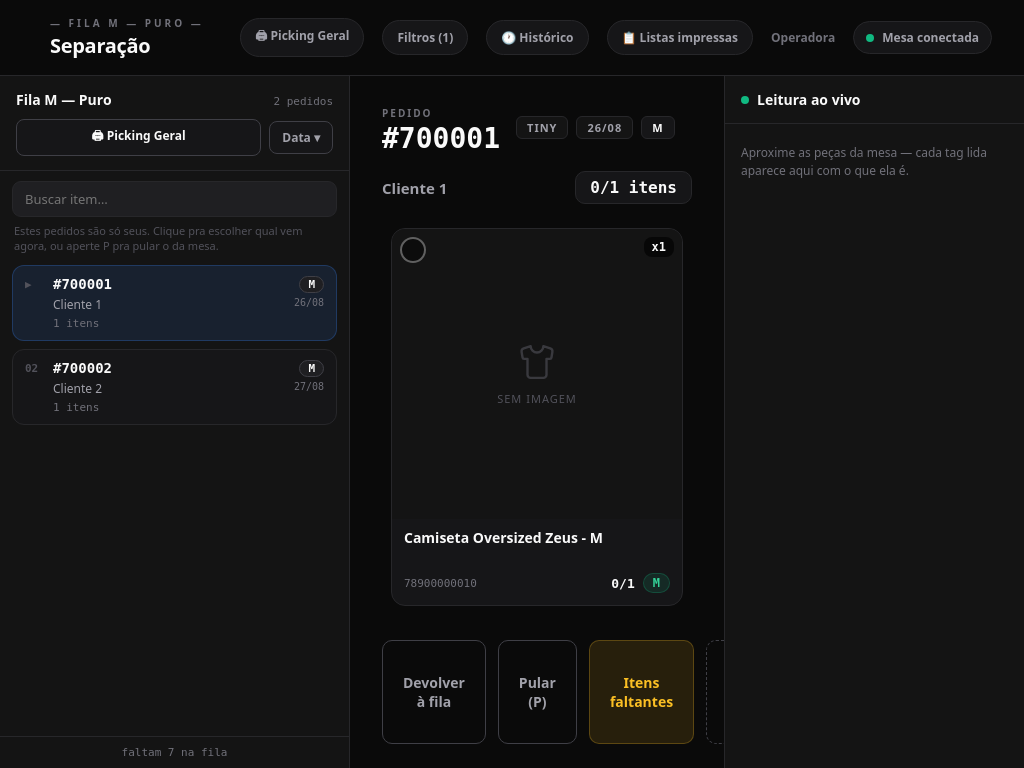
seletor Data com filtro de produto ativo › com filtro de ADIÇÃO: escolher a data continua funcionando e o menu reabre cheio
This screenshot has width=1024, height=768.
What coordinates should you click on to do the following:
click the button "Data ▾"
I would click on:
 (301, 138)
Its box is [269,121,333,154].
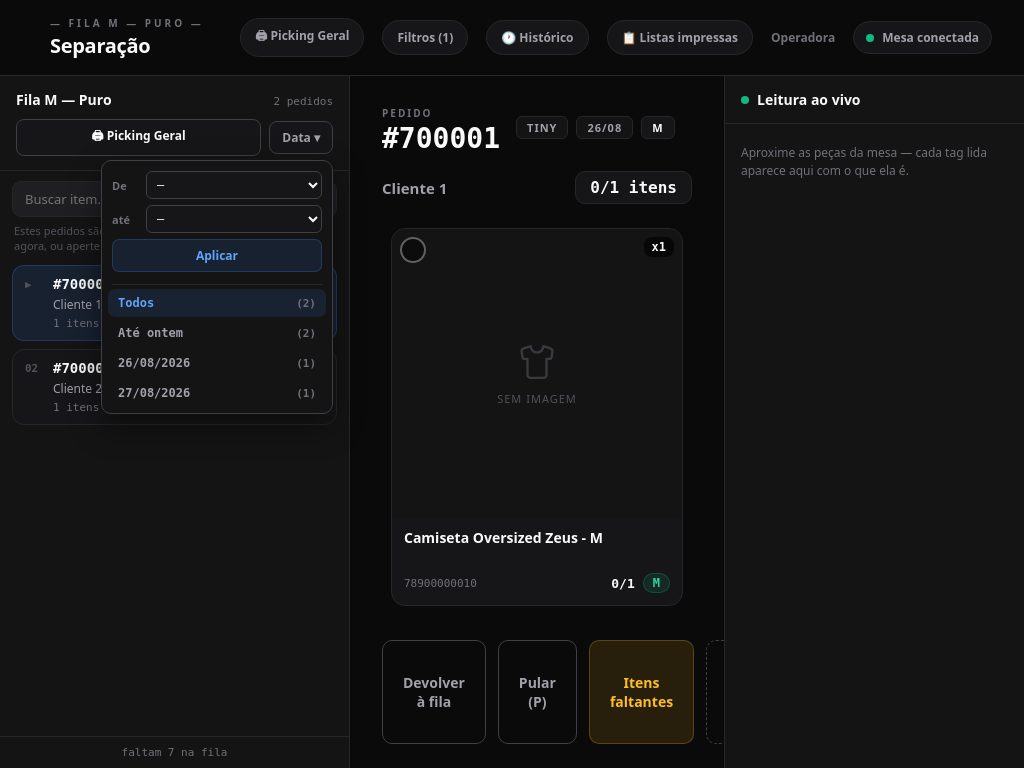
What coordinates should you click on to do the following:
click the button "26/08/2026 (1)"
I would click on:
 (217, 363)
Its box is [108,349,326,377].
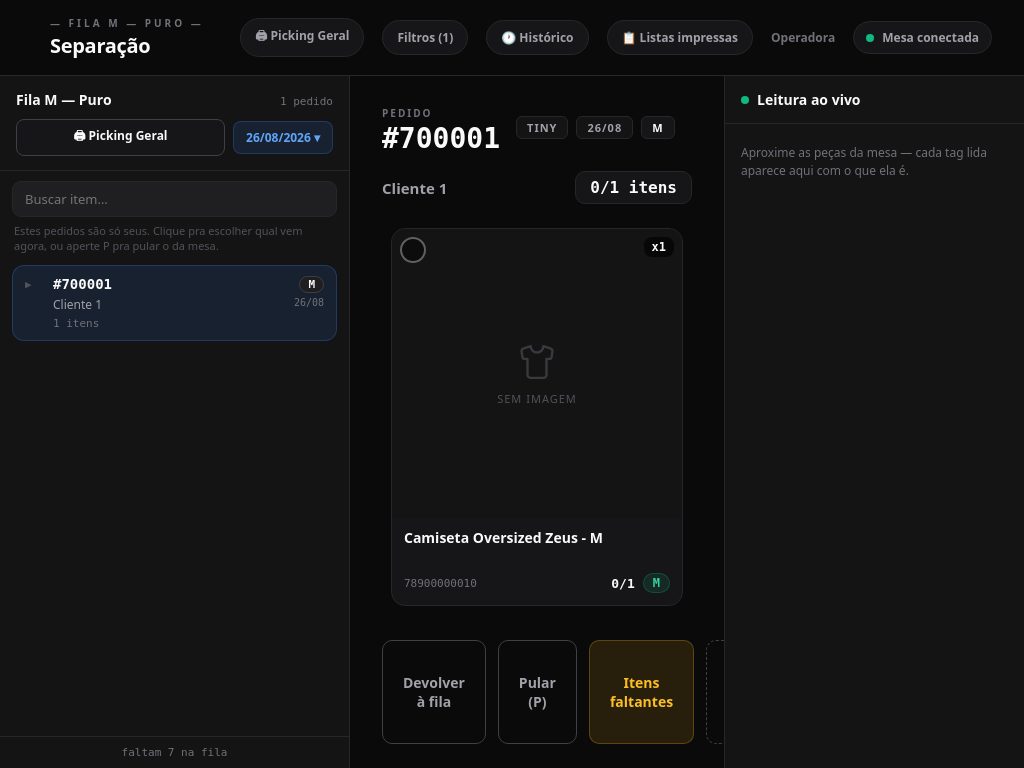
What coordinates should you click on to do the following:
click the button "26/08/2026 ▾"
I would click on:
 (283, 138)
Its box is [233,121,333,154].
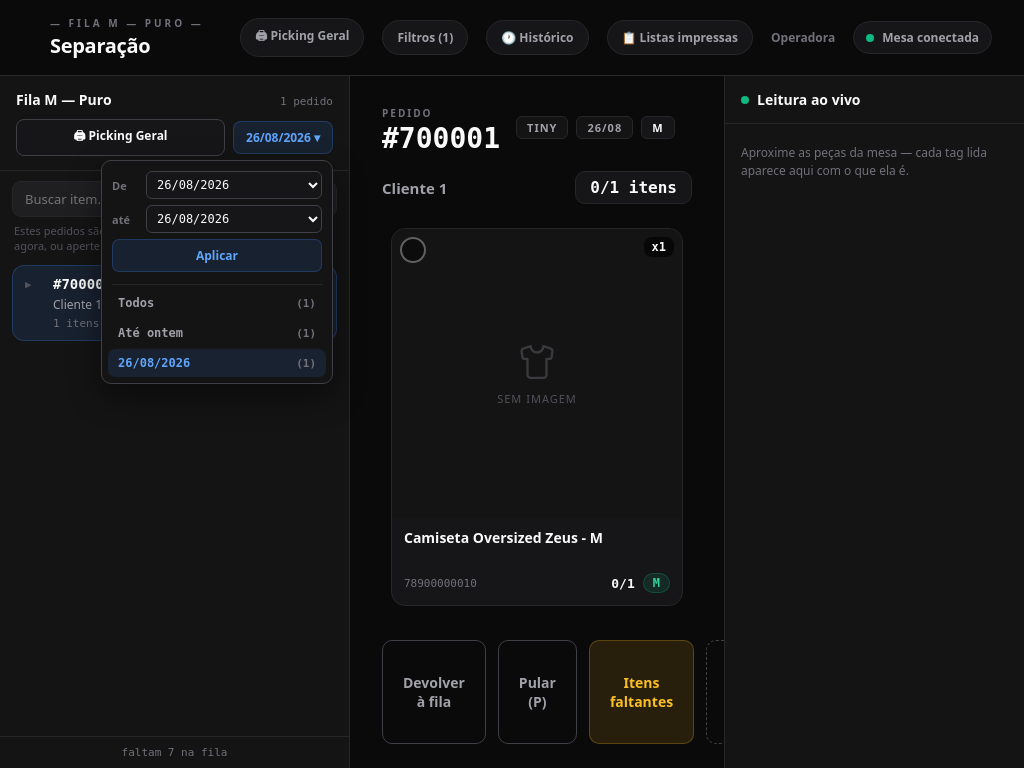
Check: the button "Todos (1)" is shown, box [108,289,326,317]
